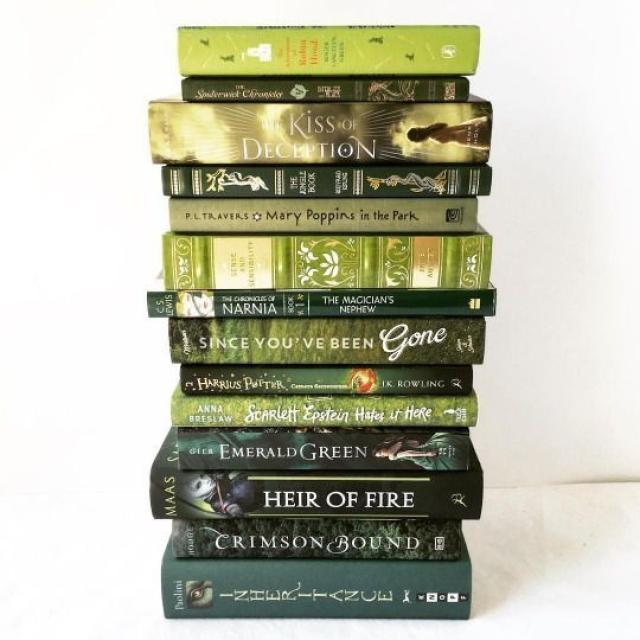book: (149, 102, 492, 162), (163, 236, 490, 289), (162, 569, 471, 620), (148, 475, 486, 517), (178, 26, 478, 73), (168, 320, 486, 364), (176, 433, 468, 469), (171, 526, 462, 561), (169, 201, 478, 233), (147, 289, 496, 316), (160, 168, 491, 196), (180, 366, 475, 396), (171, 399, 480, 427), (181, 80, 468, 102)
